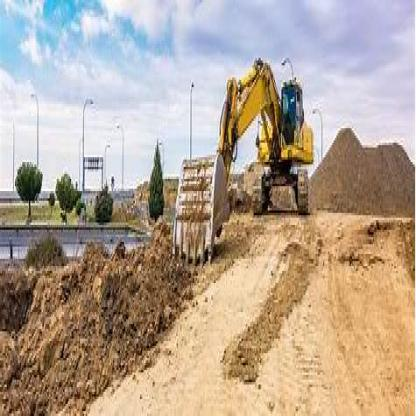excavator: (165, 34, 316, 271)
